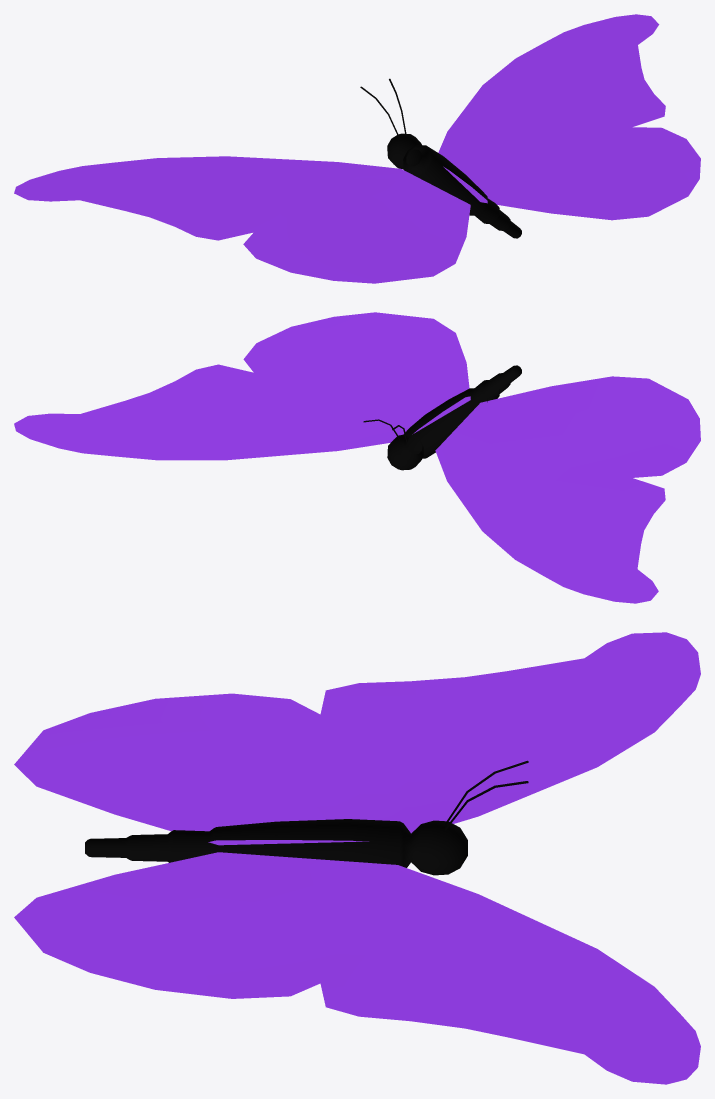
Rendered from butterfly02.glb.
3 renders of one model, top to bottom at view 1: azimuth 30°, elevation 25°; view 2: azimuth 150°, elevation 25°; view 3: azimuth 270°, elevation 25°, orthographic. The views are drawn at different scales.
Visible parts, largest first — view 1: Circle; view 2: Circle; view 3: Circle.
Boxes of the visible parts, x1,y1,x2,y2 form: Circle: (14, 14, 700, 283); Circle: (14, 312, 700, 603); Circle: (14, 632, 700, 1084).
Bounding box in the file's own units: 23.32 × 2.33 × 13.92.
